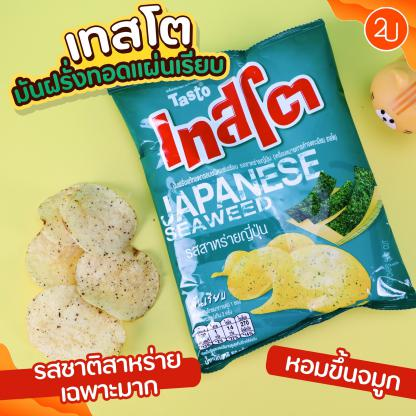potatochip: (112, 20, 415, 370)
